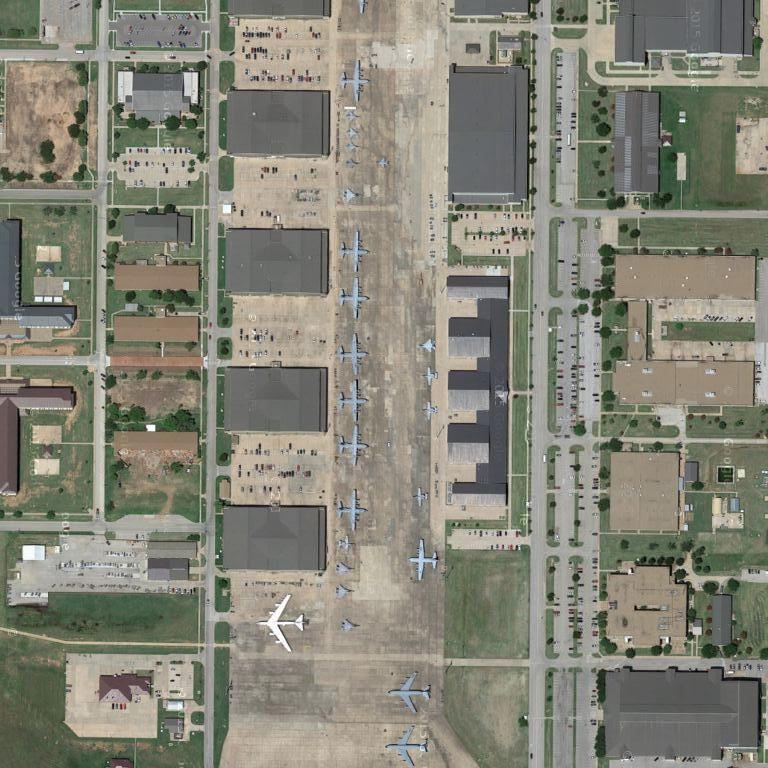B-52: (257, 593, 310, 656)
C-130: (335, 226, 372, 277), (338, 55, 374, 106), (406, 536, 440, 590), (337, 275, 373, 325), (334, 424, 372, 471), (336, 374, 369, 428), (335, 332, 369, 377), (338, 486, 369, 534)
KC-135: (377, 723, 434, 768), (387, 671, 437, 719)
